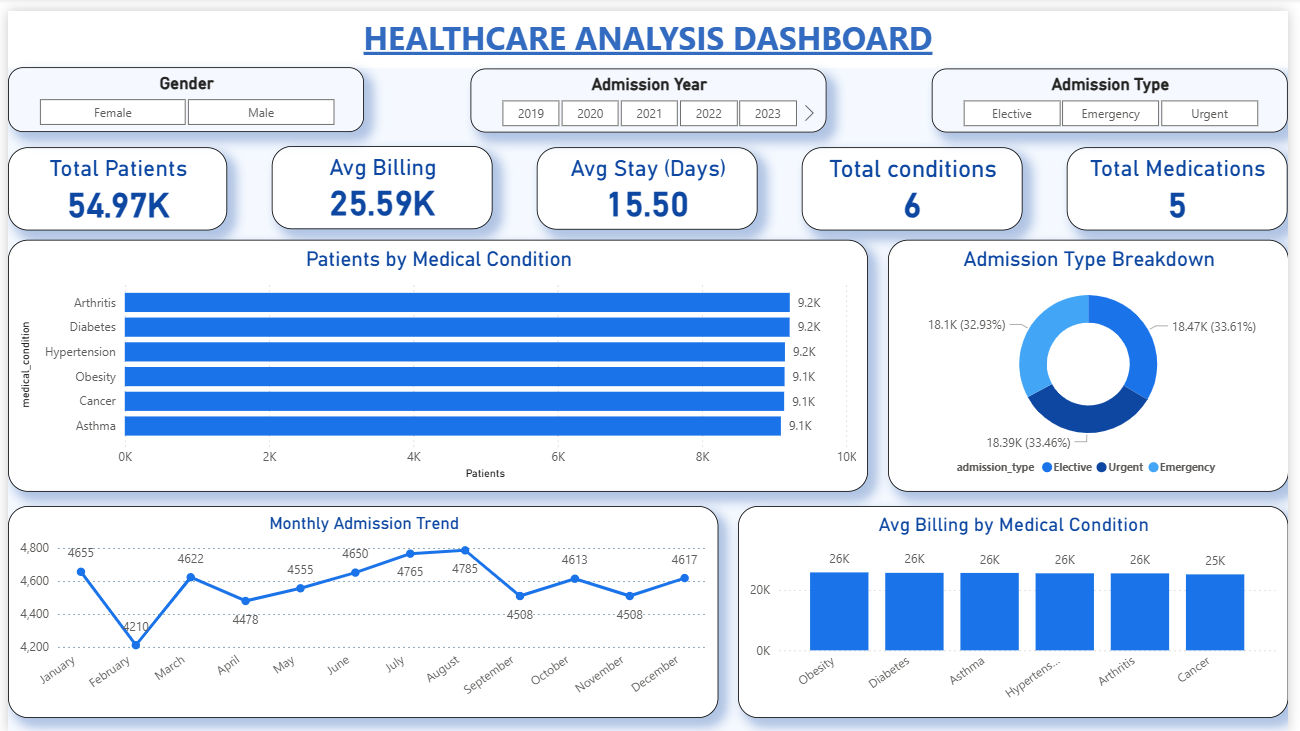

The page's visual inventory and layout, read from the dashboard file:
{"tool":"powerbi","page":{"name":"Page 1","canvas":[1280,720],"ordinal":0},"visuals":[{"type":"textbox","box":[0,0,1280,56.7],"z":0},{"type":"card","title":"Total Patients","fields":{"Values":["CountNonNull(healthcare_cleaned.name)"]},"box":[0,136.3,219.6,83.2],"z":1000},{"type":"card","title":"Avg Billing","fields":{"Values":["Avg(healthcare_cleaned.billing_amount)"]},"box":[263.9,135.1,220.8,83.2],"z":2000},{"type":"card","title":"Avg Stay (Days)","fields":{"Values":["Avg(healthcare_cleaned.length_of_stay)"]},"box":[529,136.3,220.8,82],"z":3000},{"type":"card","title":"Total conditions","fields":{"Values":["Count(healthcare_cleaned.medical_condition)"]},"box":[794.1,136.3,220.8,83.2],"z":4000},{"type":"card","title":"Total Medications","fields":{"Values":["Count(healthcare_cleaned.medication)"]},"box":[1059.2,136.3,220.8,83.2],"z":5000},{"type":"barChart","title":"Patients by Medical Condition","fields":{"Category":["healthcare_cleaned.medical_condition"],"Y":["CountNonNull(healthcare_cleaned.name)"]},"box":[0,229.2,860.2,252.1],"z":6000},{"type":"donutChart","title":"Admission Type Breakdown","fields":{"Category":["healthcare_cleaned.admission_type"],"Y":["CountNonNull(healthcare_cleaned.name)"]},"box":[879.5,229.2,400.5,252.1],"z":7000},{"type":"lineChart","title":"Monthly Admission Trend","fields":{"Category":["healthcare_cleaned.admission_month"],"Y":["CountNonNull(healthcare_cleaned.name)"]},"box":[0,494.6,710.6,212.3],"z":8000},{"type":"clusteredColumnChart","title":"Avg Billing by Medical Condition","fields":{"Category":["healthcare_cleaned.medical_condition"],"Y":["Avg(healthcare_cleaned.billing_amount)"]},"box":[729.9,494.6,550.1,212.3],"z":9000},{"type":"slicer","title":"Gender","fields":{"Values":["healthcare_cleaned.gender"]},"box":[0,56.2,355.9,65],"z":10000,"group":"g1"},{"type":"slicer","title":"Admission Year","fields":{"Values":["healthcare_cleaned.admission_year"]},"box":[462.1,57.4,355.9,63.8],"z":11000,"group":"g1"},{"type":"slicer","title":"Admission Type","fields":{"Values":["healthcare_cleaned.admission_type"]},"box":[924.1,57.4,355.9,63.8],"z":12000,"group":"g1"},{"type":"group","id":"g1","title":"Group 1","box":[0,56.2,1280,65],"z":12001}]}

Visuals, with their boxes in screenshot pixels (x1, y1, x2, y2), scaled from the page's 1280x720 canvas onto the 1300x731 screenshot:
textbox: 0:0:1299:58
"Total Patients" card: 0:138:223:223
"Avg Billing" card: 268:137:492:222
"Avg Stay (Days)" card: 537:138:762:222
"Total conditions" card: 807:138:1031:223
"Total Medications" card: 1076:138:1299:223
"Patients by Medical Condition" barChart: 0:233:874:489
"Admission Type Breakdown" donutChart: 893:233:1299:489
"Monthly Admission Trend" lineChart: 0:502:722:718
"Avg Billing by Medical Condition" clusteredColumnChart: 741:502:1299:718
"Gender" slicer: 0:57:361:123
"Admission Year" slicer: 469:58:831:123
"Admission Type" slicer: 939:58:1299:123
"Group 1" group: 0:57:1299:123
